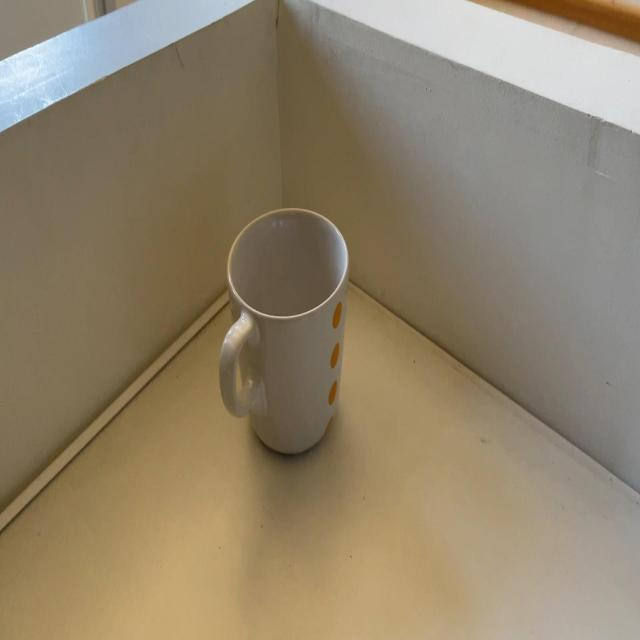cup: (218, 207, 349, 463)
